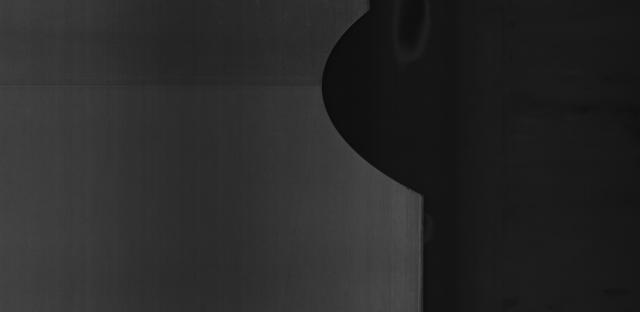crescent_gap: (314, 6, 442, 214)
welding_line: (0, 71, 331, 104)
